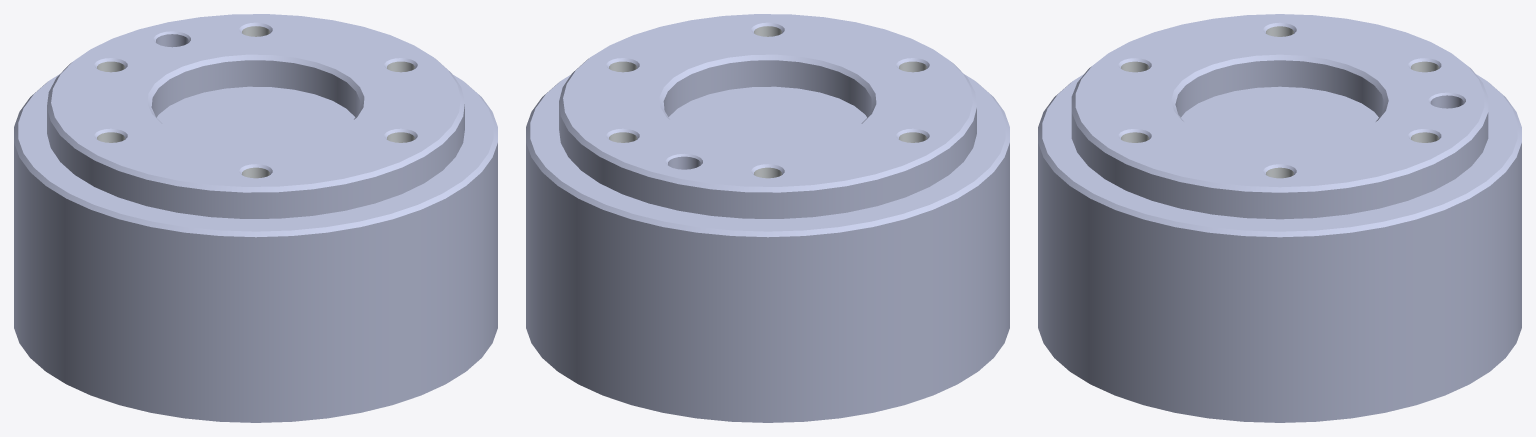
3 views of the same model, side by side, from view 1: azimuth 30°, elevation 25°; view 2: azimuth 150°, elevation 25°; view 3: azimuth 270°, elevation 25° (orthographic).
Visible parts, largest first — view 1: FBXASC194FBXASC181FBXASC194FBXASC185FBXASC194FBXASC189FBXASC; view 2: FBXASC194FBXASC181FBXASC194FBXASC185FBXASC194FBXASC189FBXASC; view 3: FBXASC194FBXASC181FBXASC194FBXASC185FBXASC194FBXASC189FBXASC.
Part boxes in pixels (<box>): FBXASC194FBXASC181FBXASC194FBXASC185FBXASC194FBXASC189FBXASC: <box>14,14,497,422</box>; FBXASC194FBXASC181FBXASC194FBXASC185FBXASC194FBXASC189FBXASC: <box>526,14,1009,422</box>; FBXASC194FBXASC181FBXASC194FBXASC185FBXASC194FBXASC189FBXASC: <box>1038,14,1521,422</box>.
Size of the model in its own units: 0.116 by 0.1157 by 0.058.
